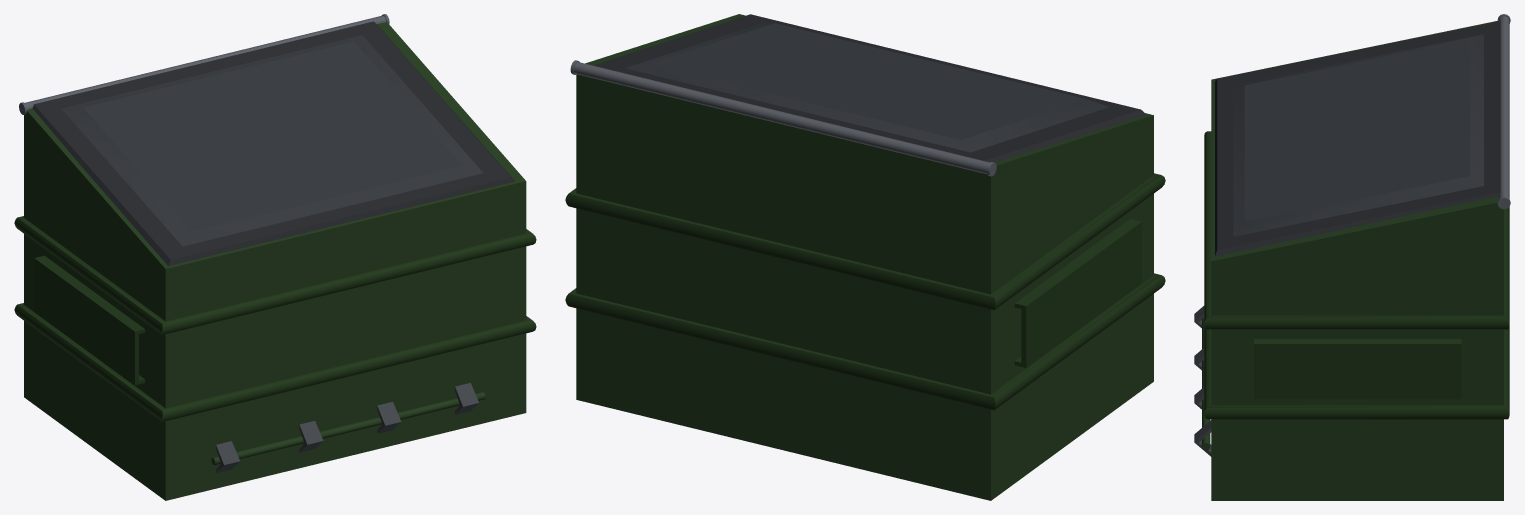
Rendered from Trash Bin_2.fbx.
The picture shows the model from 3 angles, left to right: view 1: azimuth 30°, elevation 25°; view 2: azimuth 150°, elevation 25°; view 3: azimuth 270°, elevation 25°; orthographic projection. The views are drawn at different scales.
Parts seen in each view (by area): view 1: Trash Bin_2; view 2: Trash Bin_2; view 3: Trash Bin_2.
Part boxes in pixels (<box>): Trash Bin_2: <box>14,14,536,500</box>; Trash Bin_2: <box>565,14,1165,500</box>; Trash Bin_2: <box>1194,14,1510,500</box>.
Size of the model in its own units: 282 by 208 by 196.
